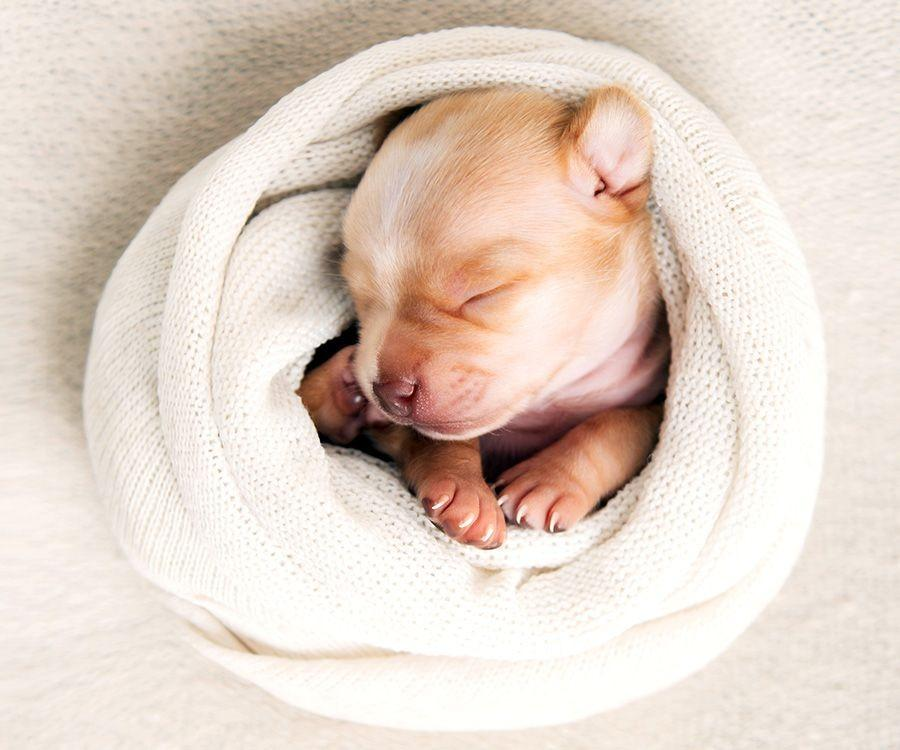puppy-dog: (294, 75, 672, 551)
